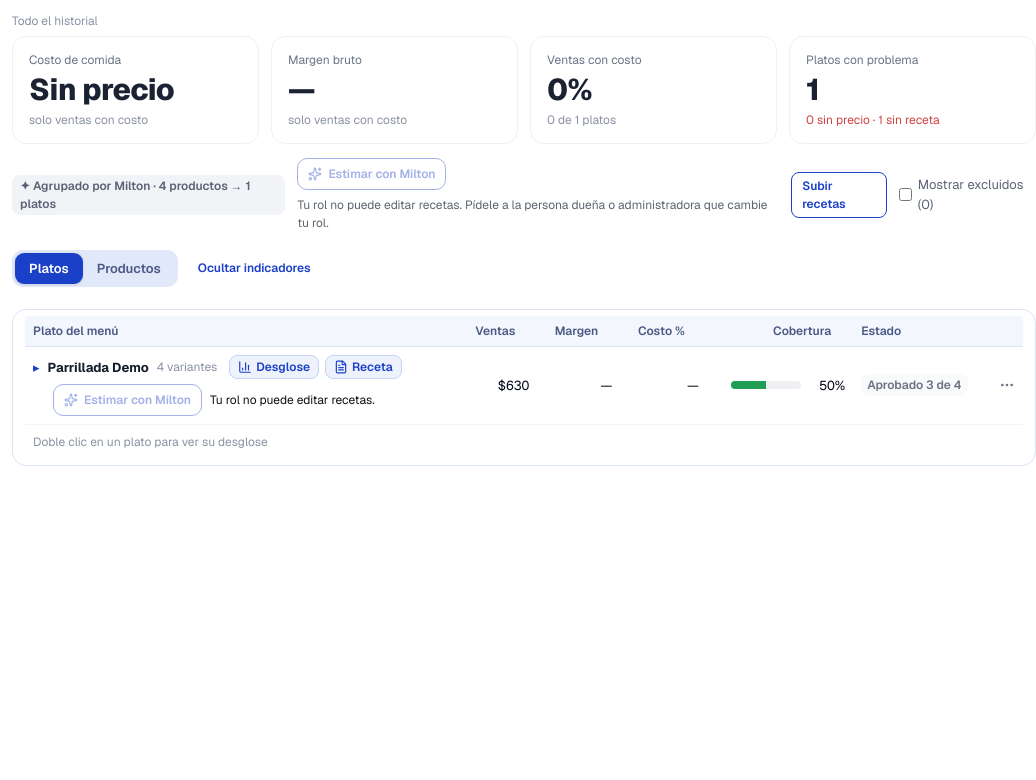
Scenario: MenuDishesScreen · size rows open into products › shows each Odoo product with its chip and an «Abrir» to its plato page
This screenshot has width=1036, height=780.
Click the button named "Ver variantes": [36, 367] box [33,358,40,377]
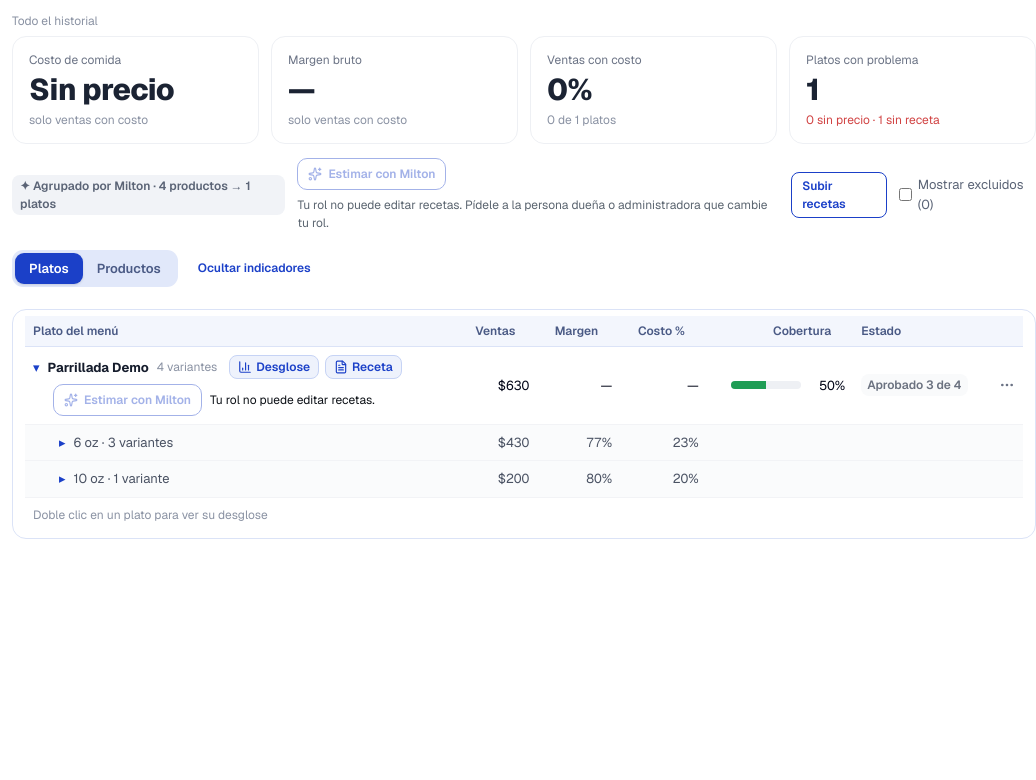
Click the button "▸" next to "6 oz": [62, 442] box [59,432,66,452]
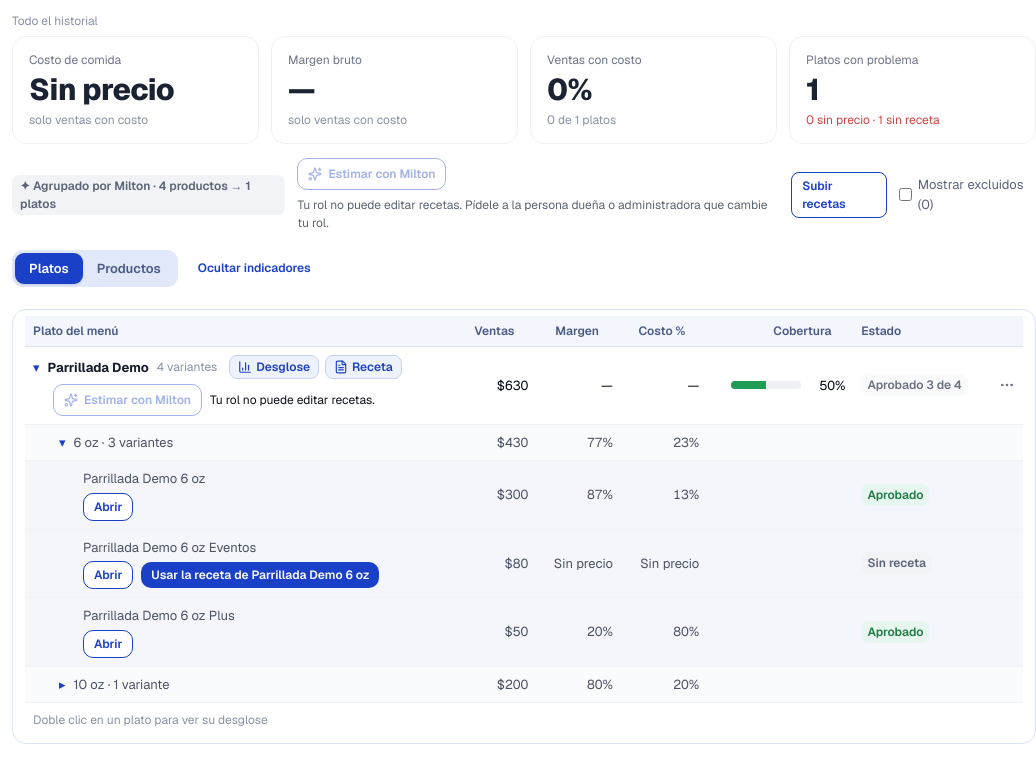
Result: the number of rows with test id "size-product-row" is 3 at [25,460,1023,529]; [25,529,1023,598]; [25,598,1023,666]
Result: the text "Sin receta" is shown at [862,552,932,574]
